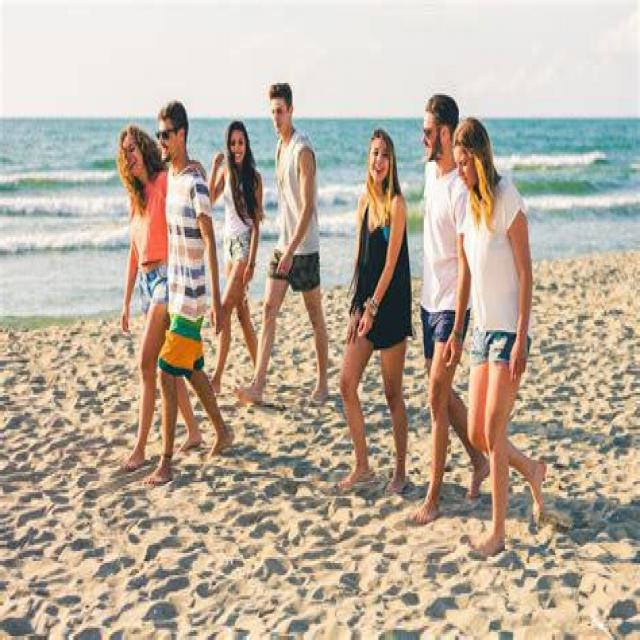face: (454, 124, 492, 192), (423, 105, 455, 164), (158, 105, 189, 160), (368, 134, 394, 184), (122, 134, 148, 180), (270, 89, 294, 136), (225, 124, 250, 164)
